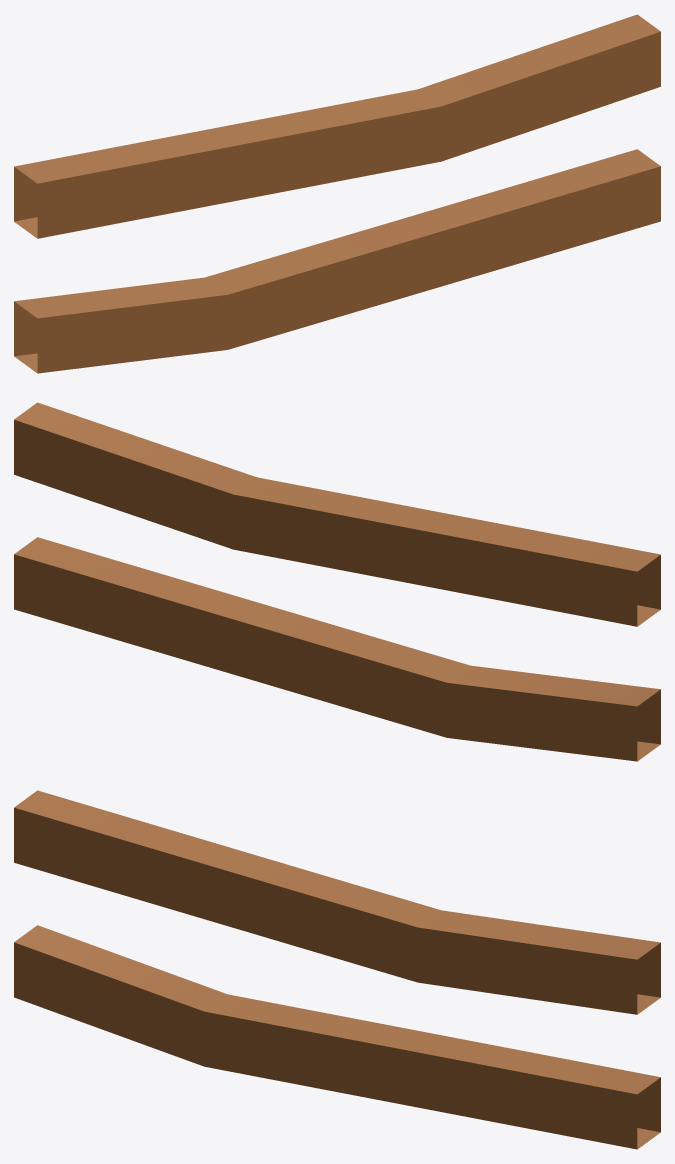
The model's file is WoodFenceTile.fbx.
3 views of the same model, one above another, from view 1: azimuth 30°, elevation 25°; view 2: azimuth 150°, elevation 25°; view 3: azimuth 330°, elevation 25° (orthographic).
Visible parts, largest first — view 1: WoodFenceTile; view 2: WoodFenceTile; view 3: WoodFenceTile.
Boxes of the visible parts, box(x1,y1,x2,y2) form: WoodFenceTile: box(14, 14, 660, 373); WoodFenceTile: box(14, 402, 660, 761); WoodFenceTile: box(14, 790, 660, 1149).
Bounding box in the file's own units: 100 × 32.59 × 6.53.
